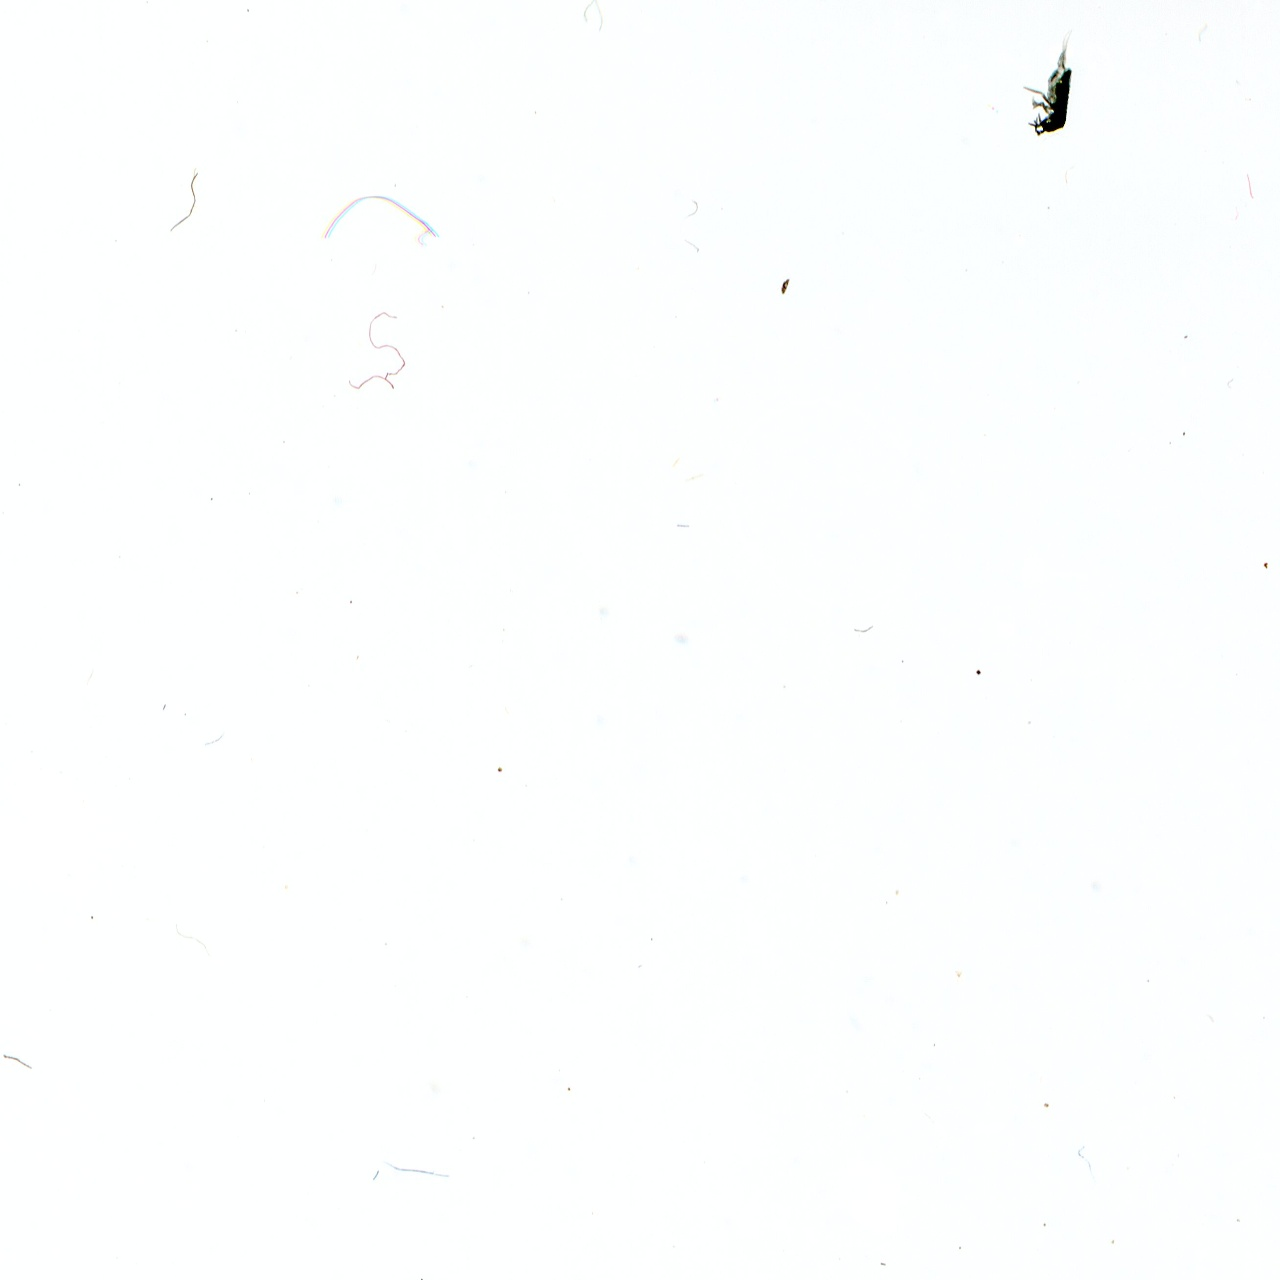arthropod: (1019, 14, 1083, 149)
